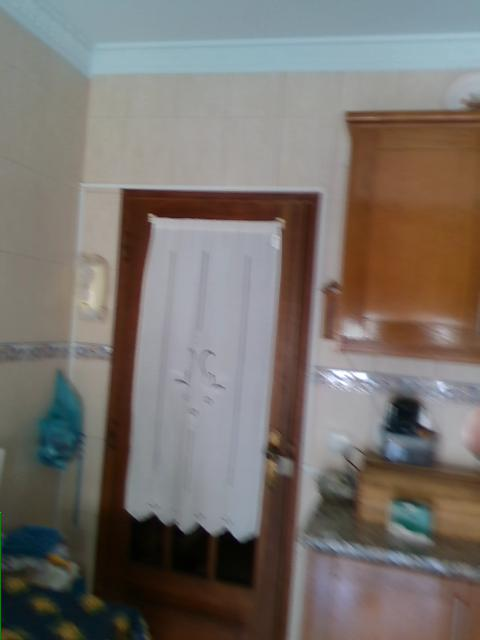door: (91, 189, 318, 639)
